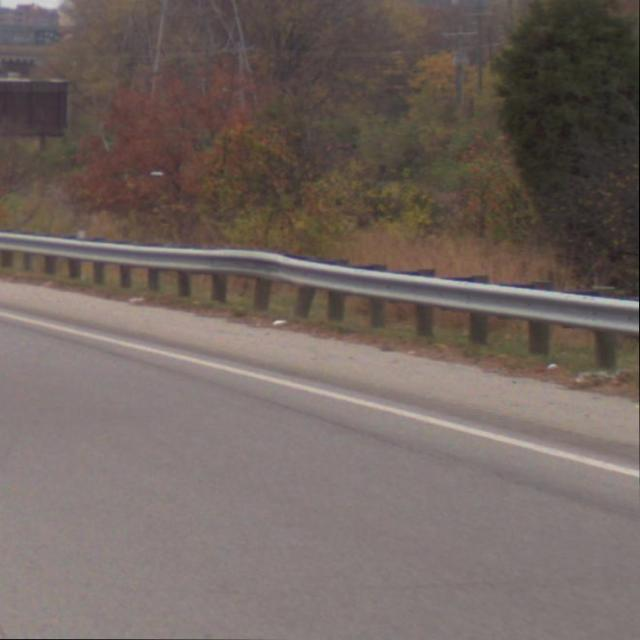Guard rail: (0, 230, 640, 381)
